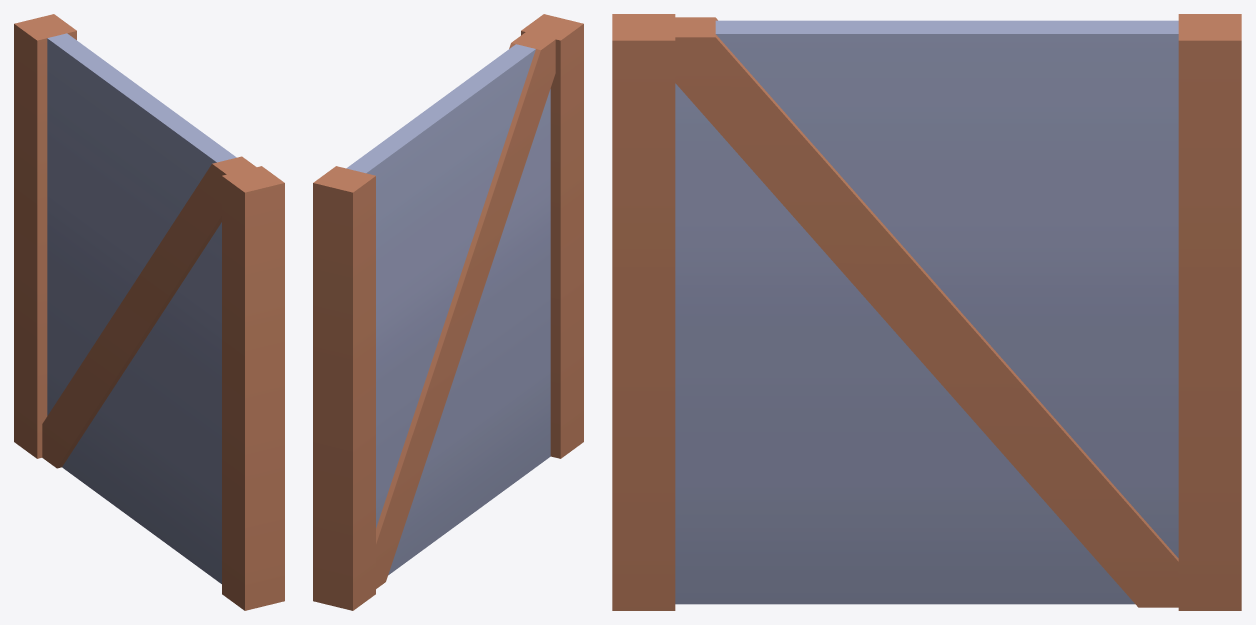
The model's file is wall-detail-diagonal.glb.
The picture shows the model from 3 angles, left to right: view 1: azimuth 30°, elevation 25°; view 2: azimuth 150°, elevation 25°; view 3: azimuth 270°, elevation 25°; orthographic projection. The views are drawn at different scales.
Parts seen in each view (by area): view 1: wall-detail-diagonal; view 2: wall-detail-diagonal; view 3: wall-detail-diagonal.
Part boxes in pixels (x1,y1,x2,y2): wall-detail-diagonal: (14,14,284,610); wall-detail-diagonal: (313,14,583,610); wall-detail-diagonal: (612,14,1241,610).
Size of the model in its own units: 0.1 by 1 by 1.
Materials: 1 (1 with a texture image).
